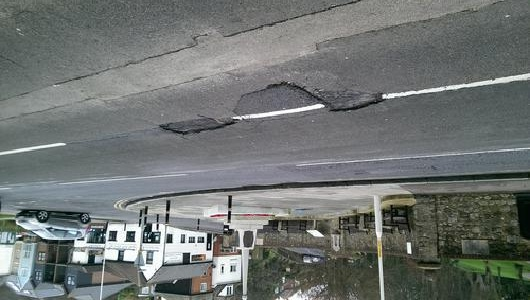pothole: (318, 89, 386, 115), (157, 115, 235, 137)
